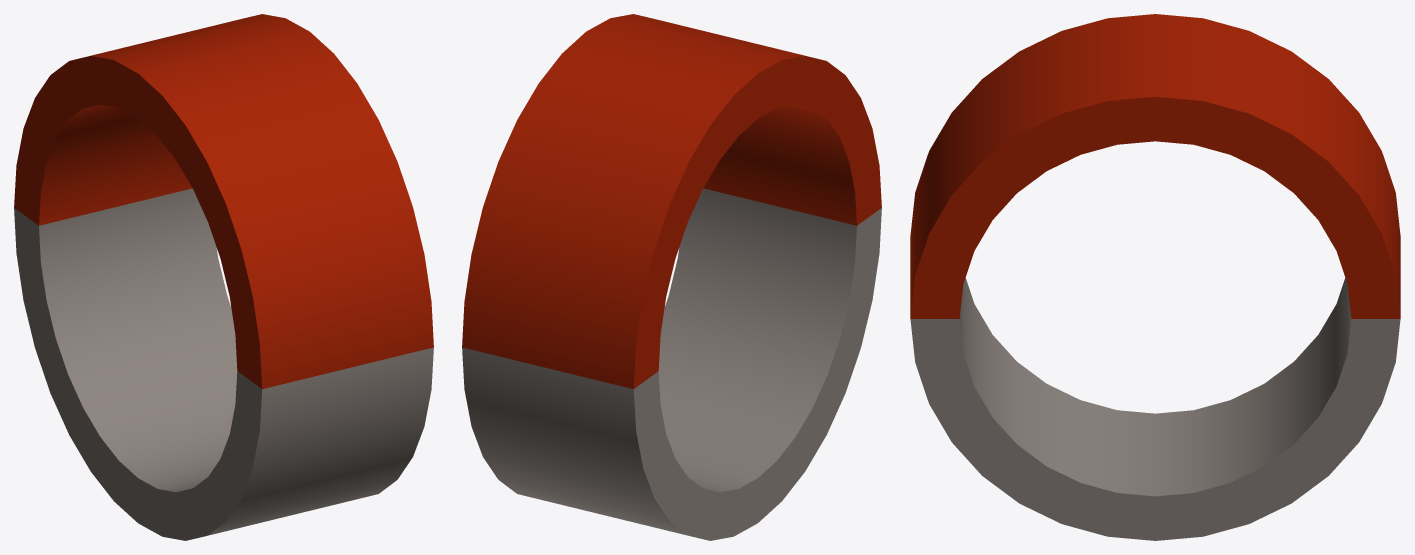
Rendered from muffe.obj.
3 renders of one model, left to right at view 1: azimuth 30°, elevation 25°; view 2: azimuth 150°, elevation 25°; view 3: azimuth 270°, elevation 25°, orthographic.
Size of the model in its own units: 1 by 2.5 by 2.5.
